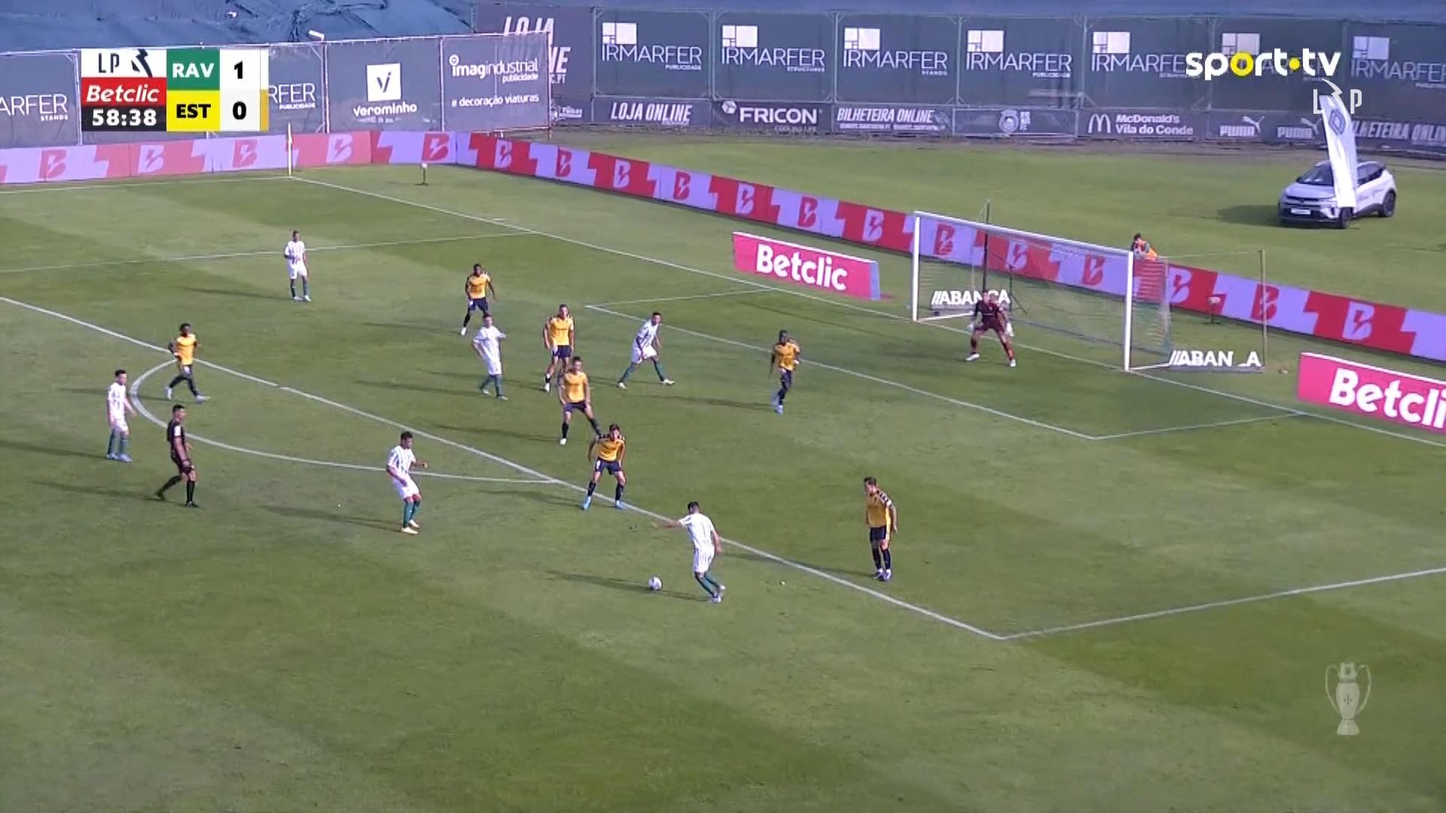ball: (647, 576, 661, 591)
goalkeeper: (965, 288, 1017, 367)
player: (650, 500, 726, 603), (615, 311, 675, 389), (385, 430, 428, 534), (556, 355, 601, 446), (581, 423, 627, 510), (862, 475, 898, 581), (164, 321, 209, 403), (471, 313, 508, 400), (541, 303, 575, 393), (767, 328, 801, 414), (105, 368, 136, 462), (459, 262, 497, 336), (283, 229, 311, 302)
referee: (154, 403, 200, 507)
